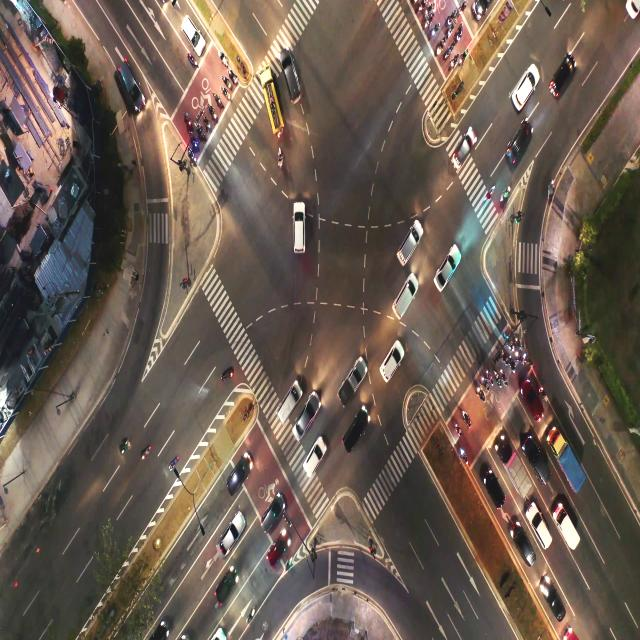bus: (269, 105, 277, 124)
car: (216, 579, 233, 599), (293, 222, 303, 253), (438, 261, 448, 291), (454, 144, 469, 164), (401, 235, 415, 256), (124, 67, 136, 91), (346, 425, 356, 453), (262, 509, 274, 531), (221, 530, 234, 550), (299, 413, 308, 439), (516, 83, 528, 102), (382, 358, 392, 380), (511, 141, 520, 164), (534, 454, 544, 474), (399, 290, 408, 312), (555, 73, 566, 90), (305, 457, 315, 475), (186, 22, 195, 42), (551, 592, 560, 612), (270, 547, 278, 569), (288, 71, 296, 93), (232, 472, 242, 489), (488, 481, 498, 497), (520, 541, 528, 561), (528, 394, 536, 412), (281, 402, 287, 422), (538, 526, 546, 538)
motorcycle: (484, 182, 494, 202), (220, 368, 234, 382), (141, 444, 152, 459), (248, 604, 256, 622), (121, 440, 131, 454), (548, 181, 554, 204), (276, 151, 283, 168), (286, 557, 292, 575), (460, 447, 467, 462), (503, 185, 509, 202), (170, 457, 177, 471), (453, 422, 461, 434), (462, 52, 468, 66), (415, 4, 424, 13), (436, 44, 442, 56), (508, 354, 513, 367), (463, 412, 468, 424), (444, 50, 450, 60), (456, 32, 461, 44), (185, 113, 190, 124), (540, 388, 546, 397), (515, 336, 520, 346), (452, 56, 458, 64), (209, 106, 214, 115), (478, 391, 483, 400), (448, 28, 453, 37), (459, 6, 464, 15), (198, 125, 202, 136), (190, 58, 196, 65), (192, 137, 196, 147), (216, 95, 220, 105), (229, 71, 234, 79), (223, 75, 227, 85), (524, 354, 528, 364), (204, 119, 208, 128), (221, 54, 225, 63), (501, 370, 505, 379), (448, 17, 452, 26), (425, 8, 430, 15), (189, 152, 193, 160), (224, 91, 228, 99), (494, 371, 498, 379), (515, 351, 519, 359), (432, 28, 436, 36), (426, 21, 430, 29), (488, 371, 491, 381), (482, 378, 485, 387), (502, 352, 505, 361), (510, 340, 512, 348)
truck: (563, 449, 574, 471), (560, 520, 574, 536), (350, 369, 360, 391), (512, 462, 520, 479)
